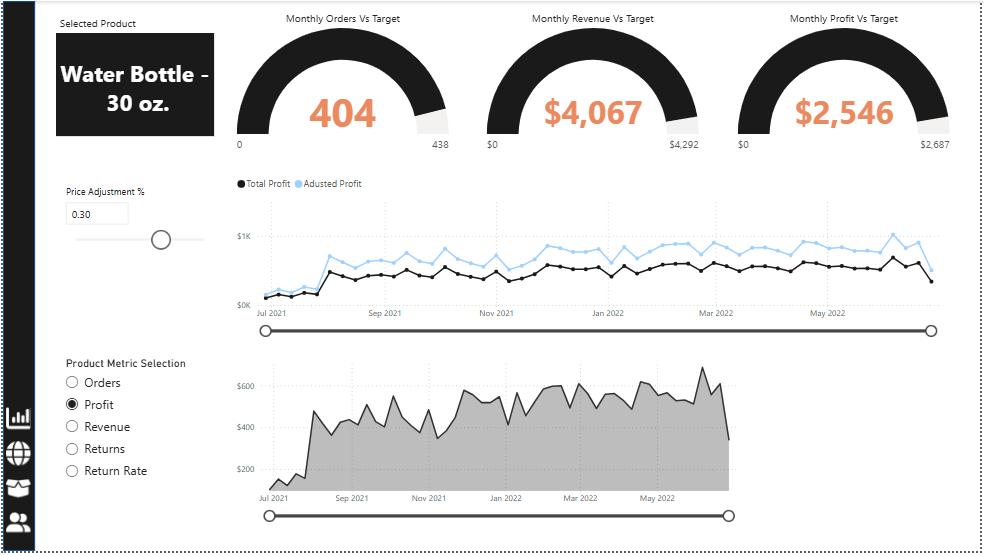

What the dashboard file says about the page in this screenshot:
{"tool":"powerbi","page":{"name":"Product Detail","canvas":[1280,720],"ordinal":2},"visuals":[{"type":"shape","title":"LEFT NAV BACKGROUND","box":[0,0,42,720],"z":0},{"type":"actionButton","box":[0,526.7,41.7,40],"z":0,"group":"g2"},{"type":"group","id":"g1","title":"Group 1","box":[301.7,13.3,943.3,193.3],"z":1000},{"type":"actionButton","box":[0,572.3,41.7,40],"z":1000,"group":"g2"},{"type":"gauge","title":"Monthly Orders Vs Target","fields":{"Y":["Measure Table.Total orders"],"MaxValue":["Measure Table.Target Order"]},"box":[301.7,13.3,287.5,193.3],"z":2000,"group":"g1"},{"type":"lineChart","title":"Profits Trending","fields":{"Category":["Calendar Lookup.Date Hierarchy.Start of Year","Calendar Lookup.Date Hierarchy.Start of Month","Calendar Lookup.Date Hierarchy.Start of Week","Calendar Lookup.Date Hierarchy.Date"],"Y":["Measure Table.Total Profit","Measure Table.Adusted Profit"]},"box":[301.7,220,943.3,223.3],"z":2000},{"type":"actionButton","box":[0,663.4,41.7,40],"z":2000,"group":"g2"},{"type":"gauge","title":"Monthly Revenue Vs Target","fields":{"Y":["Measure Table.Total revenue"],"MaxValue":["Measure Table.Target Revenue"]},"box":[629.6,13.3,287.5,193.3],"z":3000,"group":"g1"},{"type":"areaChart","title":"Returns Trending","fields":{"Y":["Measure Table.Total Profit"],"Category":["Calendar Lookup.Date Hierarchy.Start of Year","Calendar Lookup.Date Hierarchy.Start of Month","Calendar Lookup.Date Hierarchy.Start of Week","Calendar Lookup.Date Hierarchy.Date"]},"box":[301,462.2,678.2,223.2],"z":3000},{"type":"actionButton","box":[0,617.8,41.7,40],"z":3000,"group":"g2"},{"type":"gauge","title":"Monthly Profit Vs Target","fields":{"Y":["Measure Table.Total Profit"],"MaxValue":["Measure Table.Target Profit"]},"box":[957.5,13.3,287.5,193.3],"z":4000,"group":"g1"},{"type":"card","fields":{"Values":["Min(Product Lookup.ProductName)"]},"box":[70,41.7,206.7,135],"z":4000},{"type":"textbox","box":[70,15,130,26.7],"z":5000},{"type":"group","id":"g2","title":"Navigation Buttons","box":[0,526.7,41.7,176.7],"z":6000},{"type":"slicer","fields":{"Values":["Price Adjustment Parameter.Price Adjustment Parameter"]},"box":[70,235.6,216.7,145.6],"z":7000},{"type":"slicer","fields":{"Values":["Product Metric Selection.Product Metric Selection"]},"box":[70,461.2,217.5,191.2],"z":8000}]}

Visuals, with their boxes on the page's 1280x720 design canvas (x1, y1, x2, y2). These are canvas units, not pixel positions in the 984x555 screenshot, which may show the page scaled, cropped or inside an application window:
"LEFT NAV BACKGROUND" shape: 0 0 42 720
actionButton: 0 527 42 567
"Group 1" group: 302 13 1245 207
actionButton: 0 572 42 612
"Monthly Orders Vs Target" gauge: 302 13 589 207
"Profits Trending" lineChart: 302 220 1245 443
actionButton: 0 663 42 703
"Monthly Revenue Vs Target" gauge: 630 13 917 207
"Returns Trending" areaChart: 301 462 979 685
actionButton: 0 618 42 658
"Monthly Profit Vs Target" gauge: 958 13 1245 207
card - Min(Product Lookup.ProductName): 70 42 277 177
textbox: 70 15 200 42
"Navigation Buttons" group: 0 527 42 703
slicer - Price Adjustment Parameter.Price Adjustment Parameter: 70 236 287 381
slicer - Product Metric Selection.Product Metric Selection: 70 461 288 652
